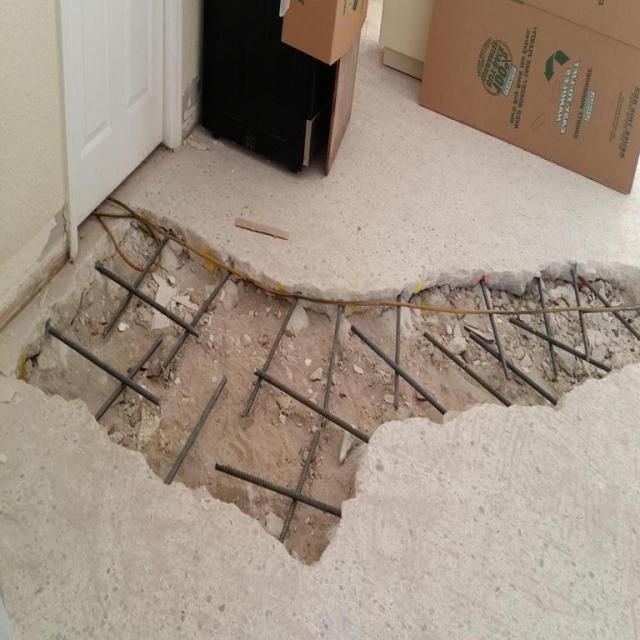Rebar: (15, 202, 639, 578)
